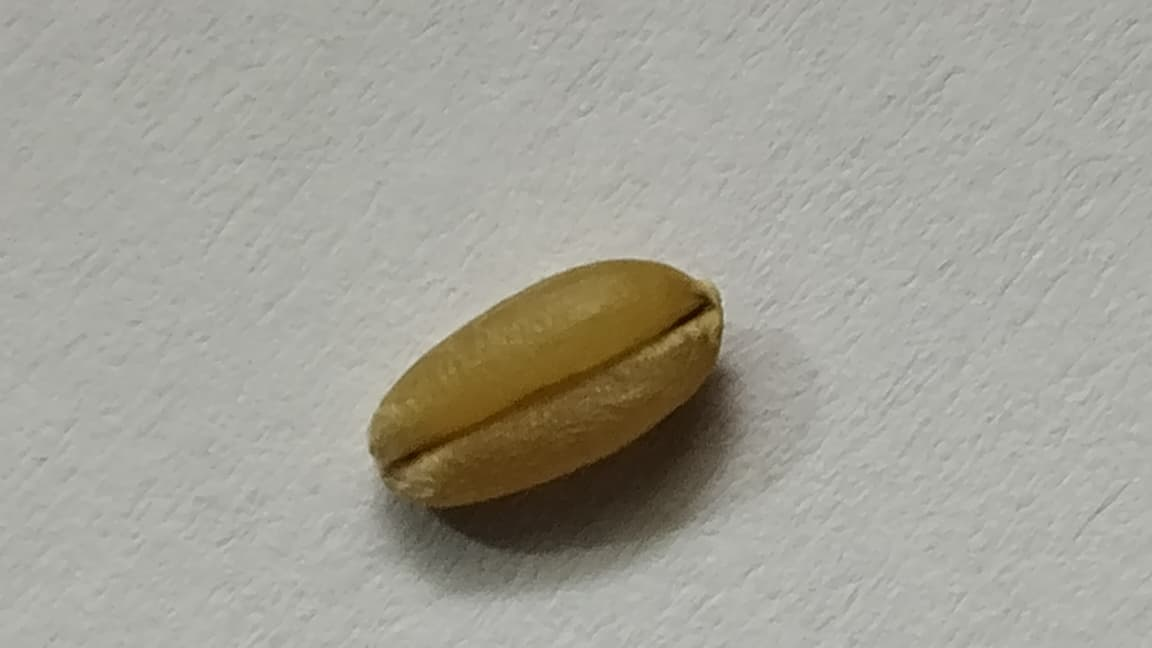healthy: (370, 260, 721, 505)
